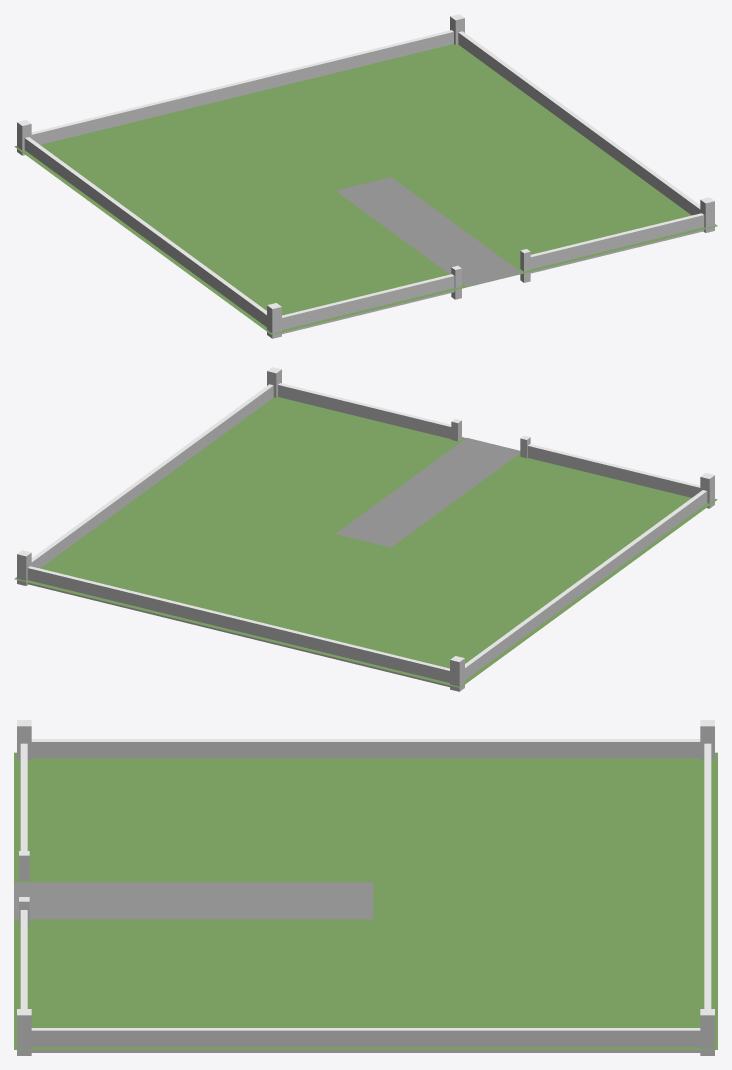
Rendered from tile_for_home_1x1_004.glb.
The picture shows the model from 3 angles, top to bottom: view 1: azimuth 30°, elevation 25°; view 2: azimuth 150°, elevation 25°; view 3: azimuth 270°, elevation 25°; orthographic projection. The views are drawn at different scales.
Parts seen in each view (by area): view 1: tile_for_home_1x1_004; view 2: tile_for_home_1x1_004; view 3: tile_for_home_1x1_004.
Boxes of the visible parts, <box> form: tile_for_home_1x1_004: <box>14,14,717,338</box>; tile_for_home_1x1_004: <box>14,367,717,691</box>; tile_for_home_1x1_004: <box>14,720,717,1055</box>.
Size of the model in its own units: 8 by 0.6168 by 8.
Materials: 1 (1 with a texture image).
